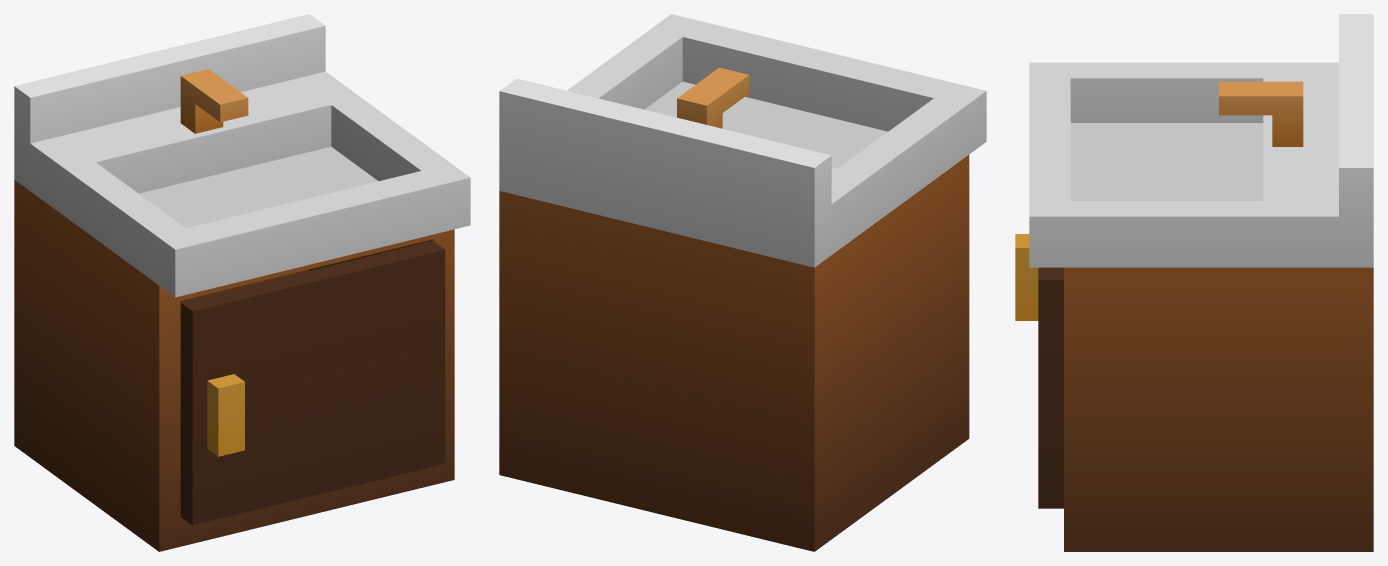
The model's file is CounterTop_Sink_0Layer_1Door_spruce.fbx.
The picture shows the model from 3 angles, left to right: view 1: azimuth 30°, elevation 25°; view 2: azimuth 150°, elevation 25°; view 3: azimuth 270°, elevation 25°; orthographic projection. The views are drawn at different scales.
Visible parts, largest first — view 1: CounterTop_Sink_0Layer_1Door.spruce, CounterTop_Sink_0Layer_1Door_DoorR.spruce; view 2: CounterTop_Sink_0Layer_1Door.spruce; view 3: CounterTop_Sink_0Layer_1Door.spruce, CounterTop_Sink_0Layer_1Door_DoorR.spruce.
Boxes of the visible parts, x1,y1,x2,y2 form: CounterTop_Sink_0Layer_1Door.spruce: (14,14,470,551); CounterTop_Sink_0Layer_1Door_DoorR.spruce: (180,241,445,525); CounterTop_Sink_0Layer_1Door.spruce: (499,14,986,551); CounterTop_Sink_0Layer_1Door.spruce: (1029,14,1373,551); CounterTop_Sink_0Layer_1Door_DoorR.spruce: (1015,234,1063,508).
Size of the model in its own units: 99.99 by 117 by 98.37.
